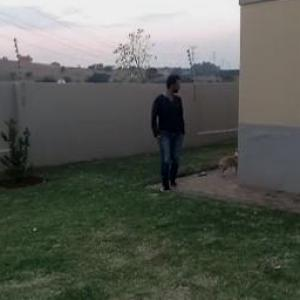follow: (149, 72, 190, 195)
